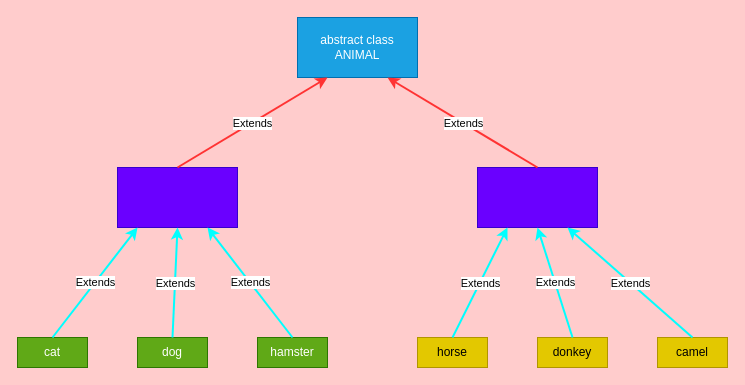
This 745x385 diagram has some shape labels left out. Each missing label, with the centre of its shape:
baggageAnimal: (537,197)
domesticAnimal: (177,197)
